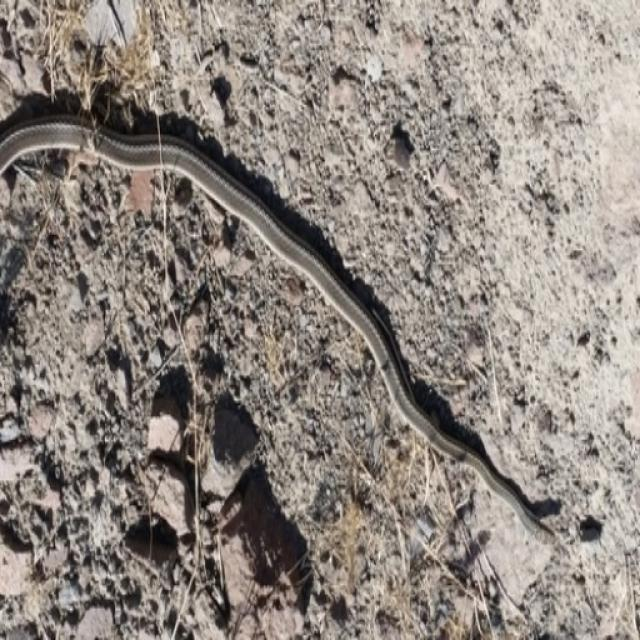snake: (8, 82, 572, 560)
